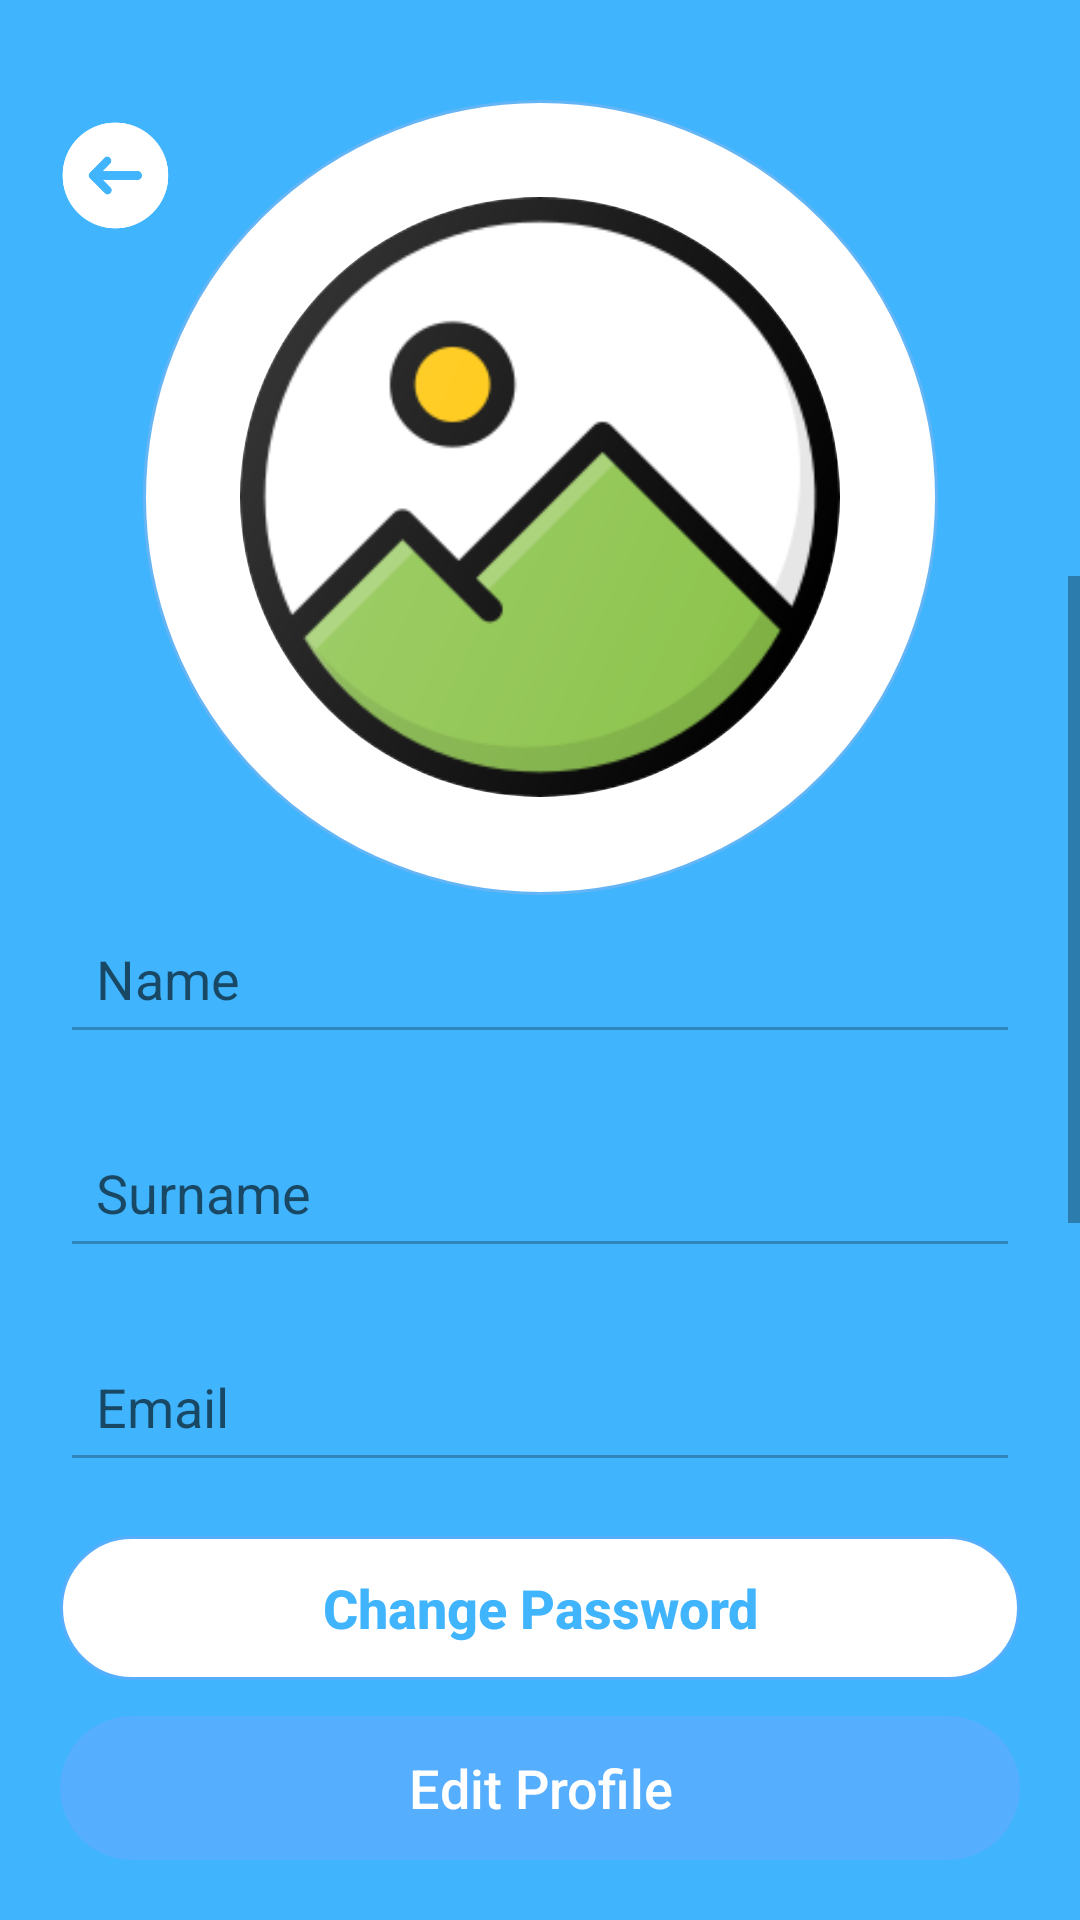

Point at icon controls on the screen. Image size 1080 x 1920, points as (x,y).
Back button: (115,175)
